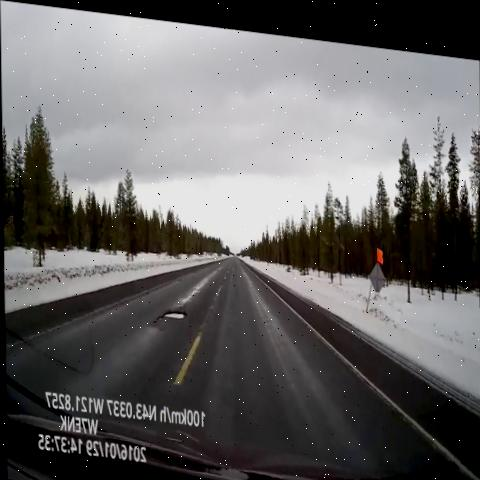pothole: (148, 297, 191, 328)
